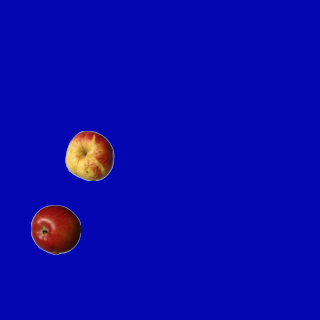Apple Braeburn: (30, 204, 80, 254)
Apple Red Yellow 1: (64, 130, 114, 180)
